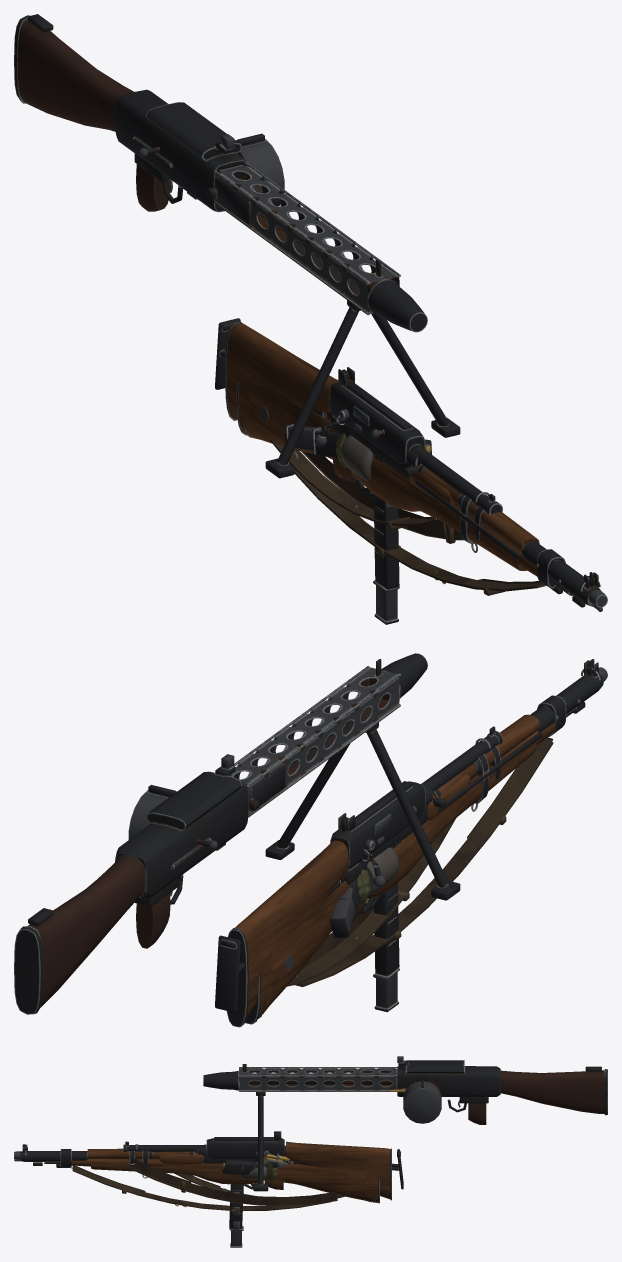
Rendered from weapons.glb.
3 renders of one model, top to bottom at view 1: azimuth 30°, elevation 25°; view 2: azimuth 150°, elevation 25°; view 3: azimuth 270°, elevation 25°, orthographic. The views are drawn at different scales.
Parts seen in each view (by area): view 1: mg42, thompson, m1_garand, kar98k, thompson_mag_seated, mp40, grenade_de; view 2: mg42, thompson, m1_garand, kar98k, mp40, thompson_mag_seated, mp40_mag, grenade_de, mp40_mag_seated; view 3: mg42, m1_garand, thompson, kar98k, thompson_mag, thompson_mag_seated, mp40, mp40_mag_seated.
Boxes of the visible parts, x1,y1,x2,y2 form: mg42: [14, 14, 460, 478]; thompson: [225, 321, 502, 530]; m1_garand: [243, 383, 607, 607]; kar98k: [236, 381, 602, 611]; thompson_mag_seated: [373, 494, 399, 591]; mp40: [215, 318, 489, 506]; grenade_de: [340, 435, 373, 482]; mg42: [14, 653, 460, 1014]; thompson: [226, 726, 502, 1027]; m1_garand: [258, 659, 607, 1018]; kar98k: [245, 665, 600, 1024]; mp40: [215, 738, 490, 1012]; thompson_mag_seated: [373, 882, 399, 980]; mp40_mag: [329, 887, 353, 938]; grenade_de: [367, 847, 399, 895]; mp40_mag_seated: [374, 972, 398, 1012]; mg42: [203, 1056, 607, 1191]; m1_garand: [14, 1144, 374, 1213]; thompson: [123, 1131, 391, 1200]; kar98k: [14, 1147, 379, 1206]; thompson_mag: [221, 1159, 257, 1174]; thompson_mag_seated: [229, 1184, 243, 1230]; mp40: [135, 1144, 403, 1189]; mp40_mag_seated: [230, 1184, 242, 1247].
Size of the model in its own units: 0.336 by 0.646 by 1.84.
Materials: 11 (11 with a texture image).
